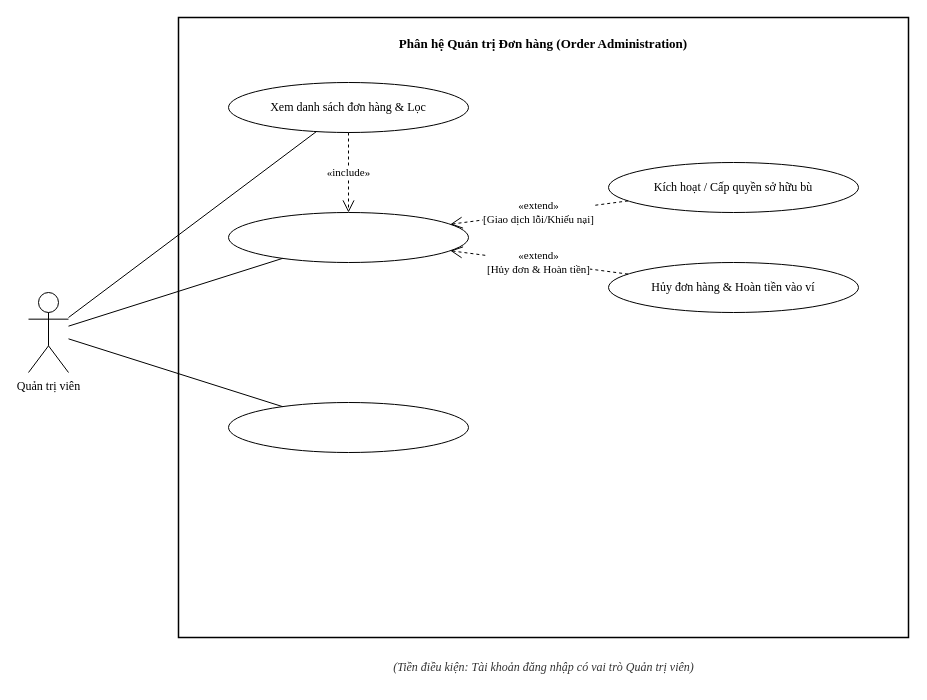
This 927x700 diagram has some shape labels left out. Here are the shapes that lost their labels. From the top down, the box of each, then its label:
(228, 212, 468, 262): Xem chi tiết đơn hàng & Khách mua
(228, 402, 468, 452): Xuất báo cáo đơn hàng (Excel/CSV)
